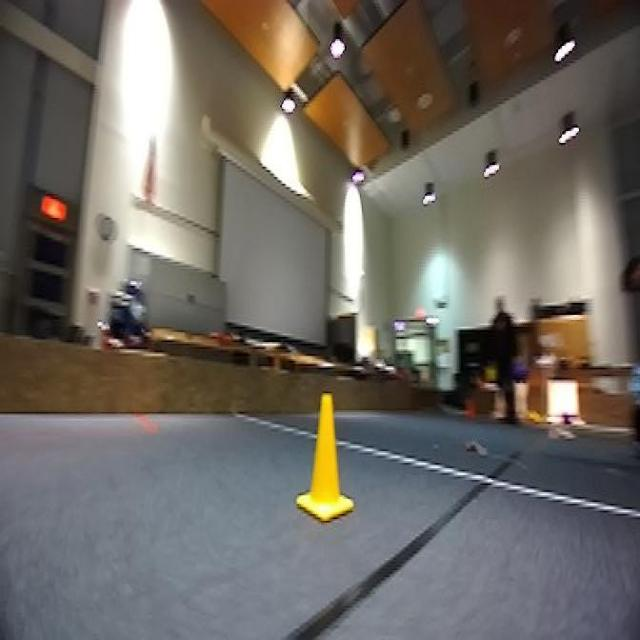frc_cone: (297, 393, 355, 526)
